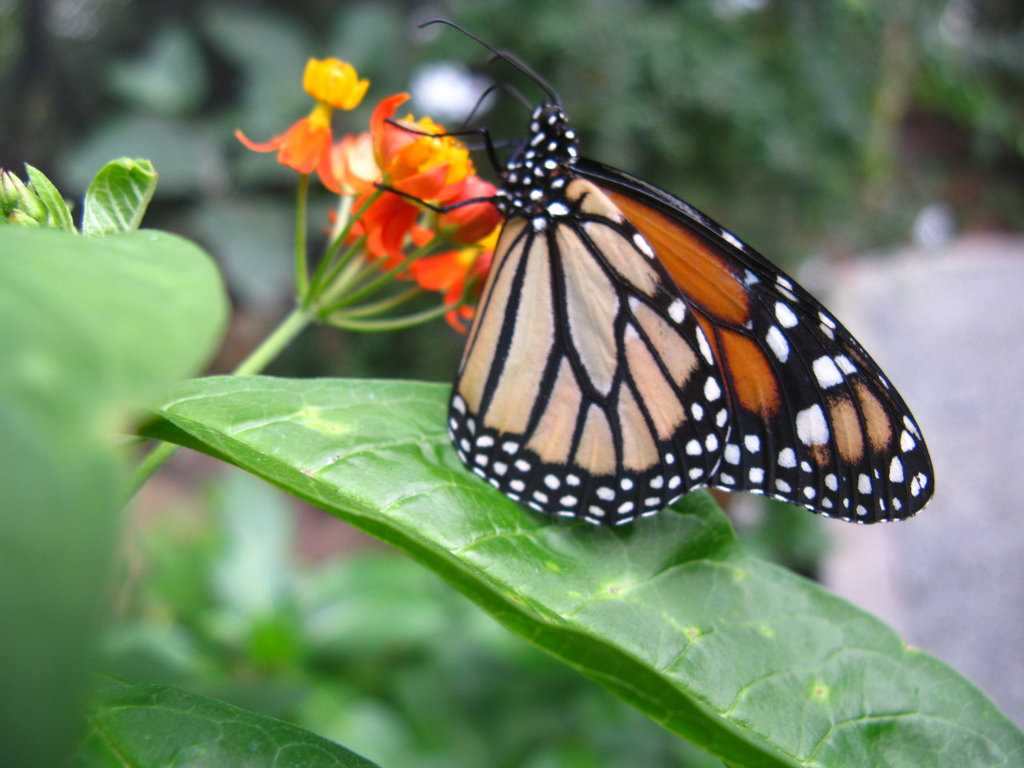Butterfly: (379, 31, 941, 572)
